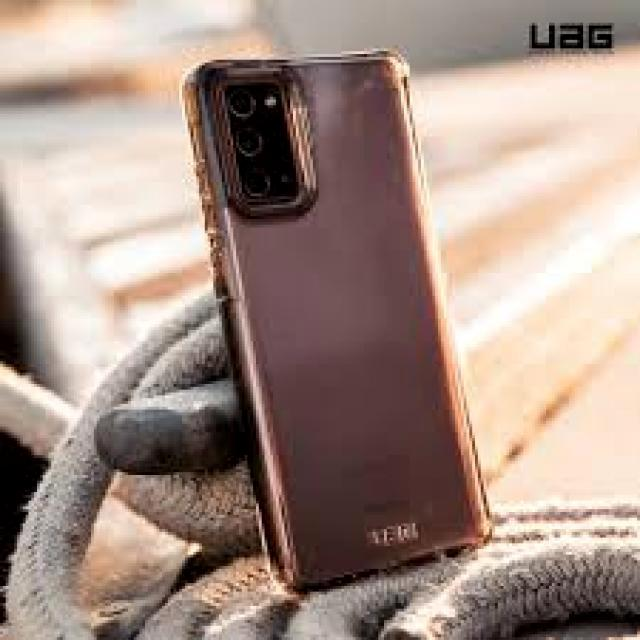lens_back: (217, 89, 261, 123), (236, 167, 278, 202), (228, 124, 266, 162)
phone: (178, 41, 494, 596)
